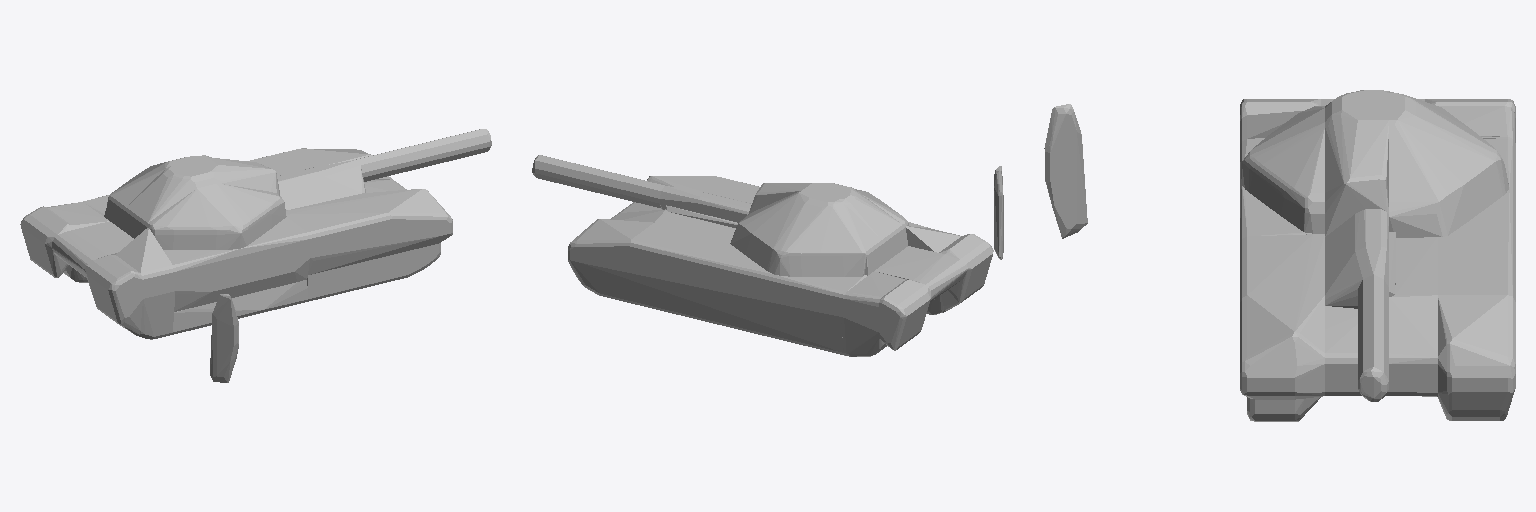
URDF robot description (root):
<robot name="root">
  <link name="body">
    <visual>
      <origin xyz="0 0 0" rpy="0 0 0"/>
      <geometry>
        <mesh filename="coacd_convex_piece_0.obj" scale="1.0000E+00 1.0000E+00 1.0000E+00"/>
      </geometry>
      <material name="">
        <color rgba="7.50E-01 7.50E-01 7.50E-01 1"/>
      </material>
    </visual>
    <collision>
      <origin xyz="0 0 0" rpy="0 0 0"/>
      <geometry>
        <mesh filename="coacd_convex_piece_0.obj" scale="1.0000E+00 1.0000E+00 1.0000E+00"/>
      </geometry>
    </collision>
    <visual>
      <origin xyz="0 0 0" rpy="0 0 0"/>
      <geometry>
        <mesh filename="coacd_convex_piece_1.obj" scale="1.0000E+00 1.0000E+00 1.0000E+00"/>
      </geometry>
      <material name="">
        <color rgba="7.50E-01 7.50E-01 7.50E-01 1"/>
      </material>
    </visual>
    <collision>
      <origin xyz="0 0 0" rpy="0 0 0"/>
      <geometry>
        <mesh filename="coacd_convex_piece_1.obj" scale="1.0000E+00 1.0000E+00 1.0000E+00"/>
      </geometry>
    </collision>
    <visual>
      <origin xyz="0 0 0" rpy="0 0 0"/>
      <geometry>
        <mesh filename="coacd_convex_piece_2.obj" scale="1.0000E+00 1.0000E+00 1.0000E+00"/>
      </geometry>
      <material name="">
        <color rgba="7.50E-01 7.50E-01 7.50E-01 1"/>
      </material>
    </visual>
    <collision>
      <origin xyz="0 0 0" rpy="0 0 0"/>
      <geometry>
        <mesh filename="coacd_convex_piece_2.obj" scale="1.0000E+00 1.0000E+00 1.0000E+00"/>
      </geometry>
    </collision>
    <visual>
      <origin xyz="0 0 0" rpy="0 0 0"/>
      <geometry>
        <mesh filename="coacd_convex_piece_3.obj" scale="1.0000E+00 1.0000E+00 1.0000E+00"/>
      </geometry>
      <material name="">
        <color rgba="7.50E-01 7.50E-01 7.50E-01 1"/>
      </material>
    </visual>
    <collision>
      <origin xyz="0 0 0" rpy="0 0 0"/>
      <geometry>
        <mesh filename="coacd_convex_piece_3.obj" scale="1.0000E+00 1.0000E+00 1.0000E+00"/>
      </geometry>
    </collision>
    <visual>
      <origin xyz="0 0 0" rpy="0 0 0"/>
      <geometry>
        <mesh filename="coacd_convex_piece_4.obj" scale="1.0000E+00 1.0000E+00 1.0000E+00"/>
      </geometry>
      <material name="">
        <color rgba="7.50E-01 7.50E-01 7.50E-01 1"/>
      </material>
    </visual>
    <collision>
      <origin xyz="0 0 0" rpy="0 0 0"/>
      <geometry>
        <mesh filename="coacd_convex_piece_4.obj" scale="1.0000E+00 1.0000E+00 1.0000E+00"/>
      </geometry>
    </collision>
    <visual>
      <origin xyz="0 0 0" rpy="0 0 0"/>
      <geometry>
        <mesh filename="coacd_convex_piece_5.obj" scale="1.0000E+00 1.0000E+00 1.0000E+00"/>
      </geometry>
      <material name="">
        <color rgba="7.50E-01 7.50E-01 7.50E-01 1"/>
      </material>
    </visual>
    <collision>
      <origin xyz="0 0 0" rpy="0 0 0"/>
      <geometry>
        <mesh filename="coacd_convex_piece_5.obj" scale="1.0000E+00 1.0000E+00 1.0000E+00"/>
      </geometry>
    </collision>
    <visual>
      <origin xyz="0 0 0" rpy="0 0 0"/>
      <geometry>
        <mesh filename="coacd_convex_piece_6.obj" scale="1.0000E+00 1.0000E+00 1.0000E+00"/>
      </geometry>
      <material name="">
        <color rgba="7.50E-01 7.50E-01 7.50E-01 1"/>
      </material>
    </visual>
    <collision>
      <origin xyz="0 0 0" rpy="0 0 0"/>
      <geometry>
        <mesh filename="coacd_convex_piece_6.obj" scale="1.0000E+00 1.0000E+00 1.0000E+00"/>
      </geometry>
    </collision>
    <visual>
      <origin xyz="0 0 0" rpy="0 0 0"/>
      <geometry>
        <mesh filename="coacd_convex_piece_7.obj" scale="1.0000E+00 1.0000E+00 1.0000E+00"/>
      </geometry>
      <material name="">
        <color rgba="7.50E-01 7.50E-01 7.50E-01 1"/>
      </material>
    </visual>
    <collision>
      <origin xyz="0 0 0" rpy="0 0 0"/>
      <geometry>
        <mesh filename="coacd_convex_piece_7.obj" scale="1.0000E+00 1.0000E+00 1.0000E+00"/>
      </geometry>
    </collision>
    <visual>
      <origin xyz="0 0 0" rpy="0 0 0"/>
      <geometry>
        <mesh filename="coacd_convex_piece_8.obj" scale="1.0000E+00 1.0000E+00 1.0000E+00"/>
      </geometry>
      <material name="">
        <color rgba="7.50E-01 7.50E-01 7.50E-01 1"/>
      </material>
    </visual>
    <collision>
      <origin xyz="0 0 0" rpy="0 0 0"/>
      <geometry>
        <mesh filename="coacd_convex_piece_8.obj" scale="1.0000E+00 1.0000E+00 1.0000E+00"/>
      </geometry>
    </collision>
    <visual>
      <origin xyz="0 0 0" rpy="0 0 0"/>
      <geometry>
        <mesh filename="coacd_convex_piece_9.obj" scale="1.0000E+00 1.0000E+00 1.0000E+00"/>
      </geometry>
      <material name="">
        <color rgba="7.50E-01 7.50E-01 7.50E-01 1"/>
      </material>
    </visual>
    <collision>
      <origin xyz="0 0 0" rpy="0 0 0"/>
      <geometry>
        <mesh filename="coacd_convex_piece_9.obj" scale="1.0000E+00 1.0000E+00 1.0000E+00"/>
      </geometry>
    </collision>
    <visual>
      <origin xyz="0 0 0" rpy="0 0 0"/>
      <geometry>
        <mesh filename="coacd_convex_piece_10.obj" scale="1.0000E+00 1.0000E+00 1.0000E+00"/>
      </geometry>
      <material name="">
        <color rgba="7.50E-01 7.50E-01 7.50E-01 1"/>
      </material>
    </visual>
    <collision>
      <origin xyz="0 0 0" rpy="0 0 0"/>
      <geometry>
        <mesh filename="coacd_convex_piece_10.obj" scale="1.0000E+00 1.0000E+00 1.0000E+00"/>
      </geometry>
    </collision>
    <visual>
      <origin xyz="0 0 0" rpy="0 0 0"/>
      <geometry>
        <mesh filename="coacd_convex_piece_11.obj" scale="1.0000E+00 1.0000E+00 1.0000E+00"/>
      </geometry>
      <material name="">
        <color rgba="7.50E-01 7.50E-01 7.50E-01 1"/>
      </material>
    </visual>
    <collision>
      <origin xyz="0 0 0" rpy="0 0 0"/>
      <geometry>
        <mesh filename="coacd_convex_piece_11.obj" scale="1.0000E+00 1.0000E+00 1.0000E+00"/>
      </geometry>
    </collision>
    <visual>
      <origin xyz="0 0 0" rpy="0 0 0"/>
      <geometry>
        <mesh filename="coacd_convex_piece_12.obj" scale="1.0000E+00 1.0000E+00 1.0000E+00"/>
      </geometry>
      <material name="">
        <color rgba="7.50E-01 7.50E-01 7.50E-01 1"/>
      </material>
    </visual>
    <collision>
      <origin xyz="0 0 0" rpy="0 0 0"/>
      <geometry>
        <mesh filename="coacd_convex_piece_12.obj" scale="1.0000E+00 1.0000E+00 1.0000E+00"/>
      </geometry>
    </collision>
    <visual>
      <origin xyz="0 0 0" rpy="0 0 0"/>
      <geometry>
        <mesh filename="coacd_convex_piece_13.obj" scale="1.0000E+00 1.0000E+00 1.0000E+00"/>
      </geometry>
      <material name="">
        <color rgba="7.50E-01 7.50E-01 7.50E-01 1"/>
      </material>
    </visual>
    <collision>
      <origin xyz="0 0 0" rpy="0 0 0"/>
      <geometry>
        <mesh filename="coacd_convex_piece_13.obj" scale="1.0000E+00 1.0000E+00 1.0000E+00"/>
      </geometry>
    </collision>
    <visual>
      <origin xyz="0 0 0" rpy="0 0 0"/>
      <geometry>
        <mesh filename="coacd_convex_piece_14.obj" scale="1.0000E+00 1.0000E+00 1.0000E+00"/>
      </geometry>
      <material name="">
        <color rgba="7.50E-01 7.50E-01 7.50E-01 1"/>
      </material>
    </visual>
    <collision>
      <origin xyz="0 0 0" rpy="0 0 0"/>
      <geometry>
        <mesh filename="coacd_convex_piece_14.obj" scale="1.0000E+00 1.0000E+00 1.0000E+00"/>
      </geometry>
    </collision>
    <visual>
      <origin xyz="0 0 0" rpy="0 0 0"/>
      <geometry>
        <mesh filename="coacd_convex_piece_15.obj" scale="1.0000E+00 1.0000E+00 1.0000E+00"/>
      </geometry>
      <material name="">
        <color rgba="7.50E-01 7.50E-01 7.50E-01 1"/>
      </material>
    </visual>
    <collision>
      <origin xyz="0 0 0" rpy="0 0 0"/>
      <geometry>
        <mesh filename="coacd_convex_piece_15.obj" scale="1.0000E+00 1.0000E+00 1.0000E+00"/>
      </geometry>
    </collision>
    <visual>
      <origin xyz="0 0 0" rpy="0 0 0"/>
      <geometry>
        <mesh filename="coacd_convex_piece_16.obj" scale="1.0000E+00 1.0000E+00 1.0000E+00"/>
      </geometry>
      <material name="">
        <color rgba="7.50E-01 7.50E-01 7.50E-01 1"/>
      </material>
    </visual>
    <collision>
      <origin xyz="0 0 0" rpy="0 0 0"/>
      <geometry>
        <mesh filename="coacd_convex_piece_16.obj" scale="1.0000E+00 1.0000E+00 1.0000E+00"/>
      </geometry>
    </collision>
    <visual>
      <origin xyz="0 0 0" rpy="0 0 0"/>
      <geometry>
        <mesh filename="coacd_convex_piece_17.obj" scale="1.0000E+00 1.0000E+00 1.0000E+00"/>
      </geometry>
      <material name="">
        <color rgba="7.50E-01 7.50E-01 7.50E-01 1"/>
      </material>
    </visual>
    <collision>
      <origin xyz="0 0 0" rpy="0 0 0"/>
      <geometry>
        <mesh filename="coacd_convex_piece_17.obj" scale="1.0000E+00 1.0000E+00 1.0000E+00"/>
      </geometry>
    </collision>
    <visual>
      <origin xyz="0 0 0" rpy="0 0 0"/>
      <geometry>
        <mesh filename="coacd_convex_piece_18.obj" scale="1.0000E+00 1.0000E+00 1.0000E+00"/>
      </geometry>
      <material name="">
        <color rgba="7.50E-01 7.50E-01 7.50E-01 1"/>
      </material>
    </visual>
    <collision>
      <origin xyz="0 0 0" rpy="0 0 0"/>
      <geometry>
        <mesh filename="coacd_convex_piece_18.obj" scale="1.0000E+00 1.0000E+00 1.0000E+00"/>
      </geometry>
    </collision>
    <visual>
      <origin xyz="0 0 0" rpy="0 0 0"/>
      <geometry>
        <mesh filename="coacd_convex_piece_19.obj" scale="1.0000E+00 1.0000E+00 1.0000E+00"/>
      </geometry>
      <material name="">
        <color rgba="7.50E-01 7.50E-01 7.50E-01 1"/>
      </material>
    </visual>
    <collision>
      <origin xyz="0 0 0" rpy="0 0 0"/>
      <geometry>
        <mesh filename="coacd_convex_piece_19.obj" scale="1.0000E+00 1.0000E+00 1.0000E+00"/>
      </geometry>
    </collision>
    <visual>
      <origin xyz="0 0 0" rpy="0 0 0"/>
      <geometry>
        <mesh filename="coacd_convex_piece_20.obj" scale="1.0000E+00 1.0000E+00 1.0000E+00"/>
      </geometry>
      <material name="">
        <color rgba="7.50E-01 7.50E-01 7.50E-01 1"/>
      </material>
    </visual>
    <collision>
      <origin xyz="0 0 0" rpy="0 0 0"/>
      <geometry>
        <mesh filename="coacd_convex_piece_20.obj" scale="1.0000E+00 1.0000E+00 1.0000E+00"/>
      </geometry>
    </collision>
  </link>
</robot>

--- What the picture shows (computed from the rendered views, not written in the file) ---
The picture shows the robot from 3 angles, left to right: view 1: azimuth 30°, elevation 25°; view 2: azimuth 150°, elevation 25°; view 3: azimuth 270°, elevation 25°; orthographic projection.
Model root with 1 links and 0 joints (none), rooted at body, posed all joints at 0.
Visible links, largest first — view 1: body; view 2: body; view 3: body.
Link boxes in pixels (box(x1,y1,x2,y2)): body: box(20, 129, 491, 382); body: box(532, 155, 1003, 356); body: box(1044, 90, 1515, 421).
Bounding box of the posed robot: 1.65 × 1.07 × 0.4671 m (x, y, z).
Meshes: 21 distinct files referenced, 21 mesh visuals loaded (21 OBJ).
